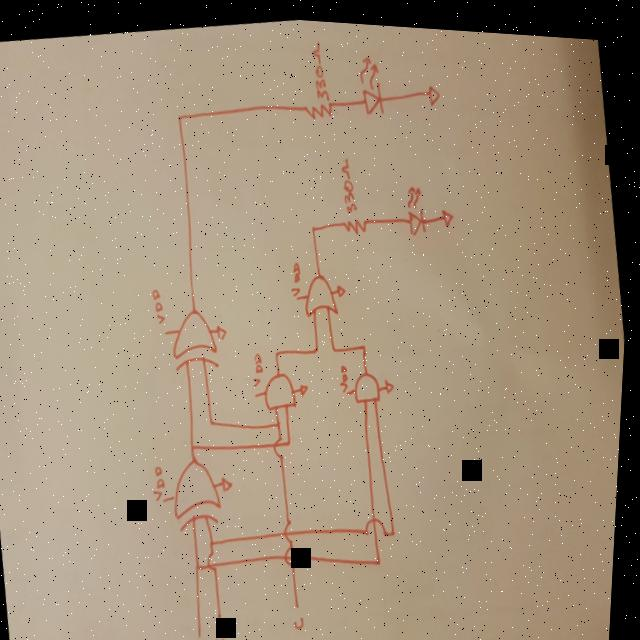crossover: (367, 510, 393, 535), (275, 431, 291, 457), (285, 516, 300, 541), (286, 541, 302, 564), (210, 548, 224, 570)
diode: (353, 48, 388, 116), (402, 177, 432, 233)
ground: (426, 75, 444, 104), (440, 199, 458, 223), (217, 320, 232, 340), (386, 372, 401, 392), (224, 471, 239, 490), (300, 376, 315, 395), (336, 279, 349, 295)
junction: (199, 560, 208, 570), (278, 416, 285, 426), (363, 338, 370, 348), (379, 553, 387, 561), (177, 111, 184, 120), (289, 435, 296, 444), (212, 416, 219, 424), (276, 346, 283, 354), (395, 524, 402, 532), (214, 536, 220, 543), (316, 344, 322, 351), (334, 342, 340, 349), (312, 222, 318, 228), (194, 442, 199, 448)
resistor: (301, 94, 336, 119), (340, 209, 373, 234)
source: (297, 291, 303, 297), (166, 496, 171, 503), (166, 328, 171, 335), (256, 391, 261, 395), (349, 387, 352, 391)
terminal: (223, 623, 231, 631), (202, 629, 209, 637), (300, 598, 307, 606)
text: (307, 35, 332, 97), (338, 152, 361, 213), (151, 460, 172, 501), (152, 284, 170, 324), (250, 348, 269, 385), (289, 257, 306, 294), (339, 358, 354, 389), (297, 611, 311, 627), (220, 634, 234, 640), (192, 636, 206, 640)
